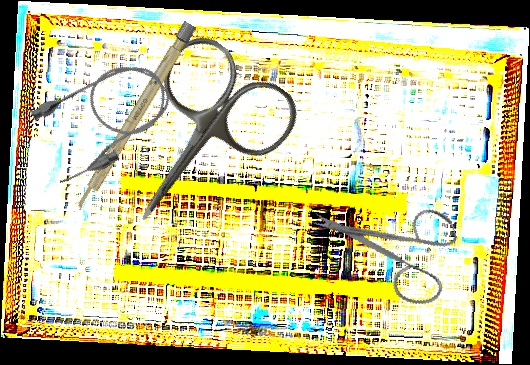Cannula: (22, 48, 185, 191)
Iris Scissors: (83, 24, 310, 261), (308, 170, 475, 332)
Scalpel Handle: (73, 20, 197, 214)
